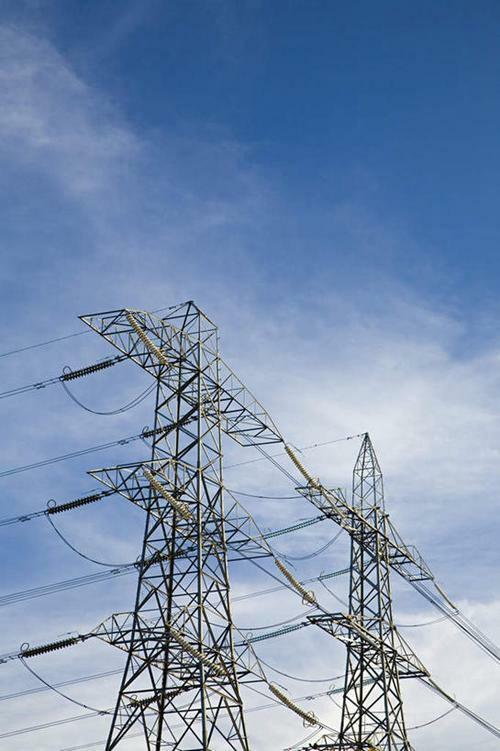power_tower: (73, 290, 276, 751), (284, 418, 467, 751)
